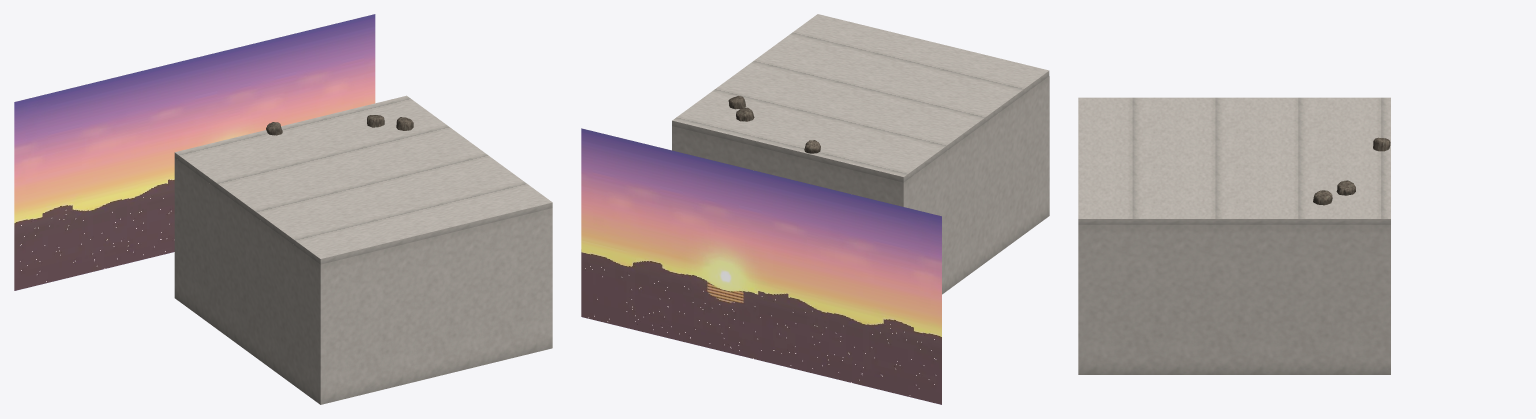
File: room.glb
3 views of the same model, side by side, from view 1: azimuth 30°, elevation 25°; view 2: azimuth 150°, elevation 25°; view 3: azimuth 270°, elevation 25° (orthographic). The views are drawn at different scales.
Visible parts, largest first — view 1: ENV_sky_backdrop, ENV_ceiling, ENV_wall_front, ENV_wall_left, ENV_wall_back, HERO_tree; view 2: ENV_sky_backdrop, ENV_ceiling, ENV_wall_left, ENV_wall_back, ENV_wall_front, HERO_tree; view 3: ENV_wall_right, ENV_ceiling, ENV_wall_back, ENV_wall_front, HERO_tree.
Boxes of the visible parts, x1,y1,x2,y2 form: ENV_sky_backdrop: (14, 14, 375, 290); ENV_ceiling: (174, 95, 552, 264); ENV_wall_front: (316, 208, 552, 404); ENV_wall_left: (179, 161, 315, 401); ENV_wall_back: (174, 158, 178, 300); HERO_tree: (266, 115, 413, 135); ENV_sky_backdrop: (581, 128, 941, 404); ENV_ceiling: (672, 14, 1049, 182); ENV_wall_left: (908, 79, 1044, 294); ENV_wall_back: (672, 126, 908, 207); ENV_wall_front: (1045, 76, 1049, 218); HERO_tree: (728, 96, 820, 153); ENV_wall_right: (1088, 224, 1381, 374); ENV_ceiling: (1078, 97, 1390, 224); ENV_wall_back: (1381, 224, 1390, 374); ENV_wall_front: (1078, 224, 1087, 374); HERO_tree: (1313, 137, 1390, 205).
Bounding box in the file's own units: 7 × 3.5 × 6.95.
Materials: 53 (17 with a texture image).
